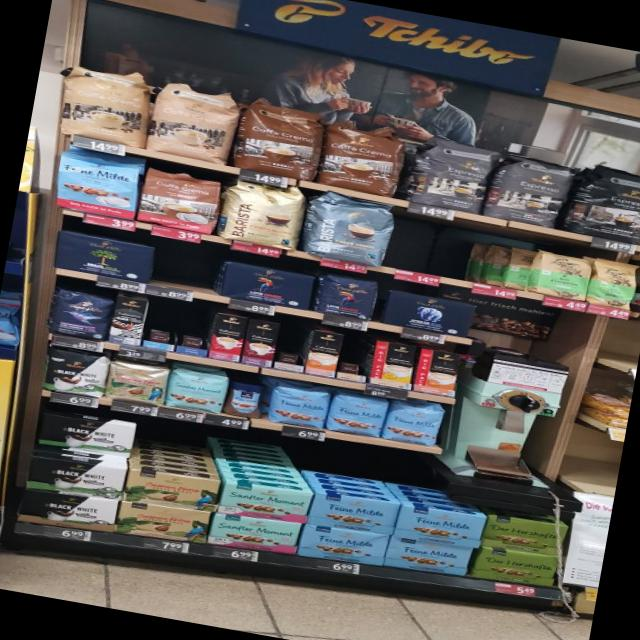AB Gemahlen: (382, 288, 478, 338)
Athiopien Bohne: (583, 257, 640, 311)
Athiopien Gemahlen: (530, 247, 594, 302)
BM Gemahlen: (50, 228, 155, 283)
BW Bohne: (42, 346, 111, 399)
BW Gemahlen: (26, 454, 126, 500), (18, 487, 119, 532), (40, 411, 138, 457)
Barista CB: (220, 178, 306, 250)
Barista CC: (305, 190, 398, 268)
C Fino Bohne: (49, 286, 115, 343)
CC Mild: (52, 62, 156, 150), (144, 76, 244, 165)
CC Vollmundig: (138, 168, 222, 235)
CC Vollmundig 36 Pads: (234, 94, 327, 182), (316, 118, 406, 198)
Colombia BB Bohne: (106, 358, 170, 408)
Colombia BB Gemahlen: (120, 464, 222, 516), (113, 498, 211, 547)
Empty Shelf: (392, 222, 536, 292), (150, 245, 226, 295), (175, 306, 213, 349), (143, 300, 180, 344), (338, 334, 374, 377), (275, 324, 309, 366)
Espresso Aromatisch: (488, 150, 575, 231)
Espresso M Art: (412, 133, 496, 214)
Espresso S Art: (574, 157, 640, 247)
FM 36 Pads: (52, 150, 142, 220)
FM Bohne: (268, 382, 330, 430), (327, 392, 389, 438), (386, 401, 445, 448)
FM Gemahlen: (395, 504, 488, 548), (307, 492, 401, 535), (298, 523, 389, 567), (385, 536, 474, 577)
FM Instant: (225, 379, 267, 419)
Herzhatfe Mundig: (483, 513, 570, 557), (473, 547, 562, 586)
LG Bohne: (314, 270, 382, 322)
LG Gemahlen: (218, 259, 314, 311)
SM Bohne: (166, 366, 230, 416)
SM Gemahlen: (216, 481, 315, 524), (207, 511, 301, 556)
Simo CCMild: (368, 339, 418, 390)
Simo CCVollmundig: (414, 348, 460, 397)
Simo CCVollmundig bigpack: (305, 328, 343, 378)
Simo Es Brazil: (208, 312, 246, 362)
Simo Es Caramel: (242, 318, 279, 368)
Simo Es Elegant: (109, 295, 148, 347)
